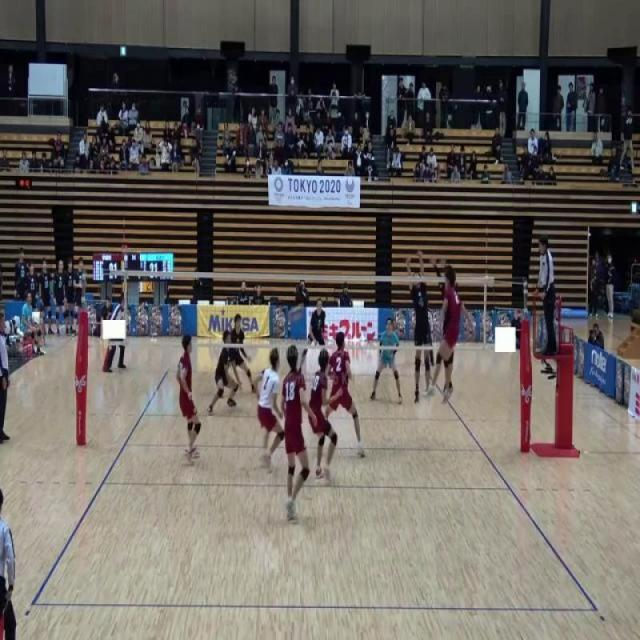volleyball: (289, 302, 305, 322)
